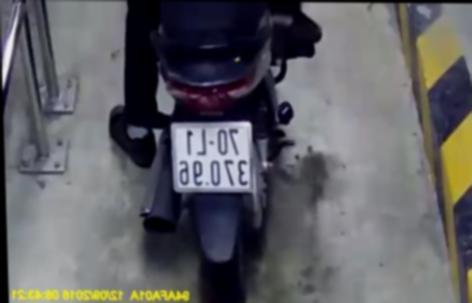License_Plate: (164, 117, 266, 195)
